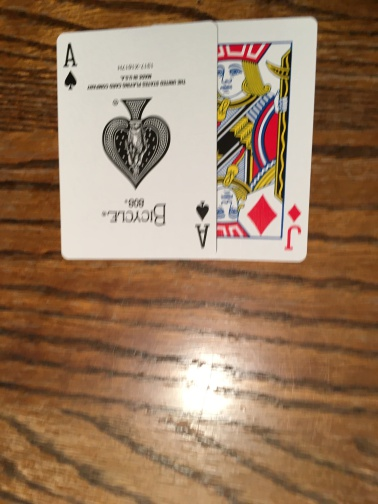ace: (57, 20, 217, 263)
jack: (215, 18, 310, 262)
